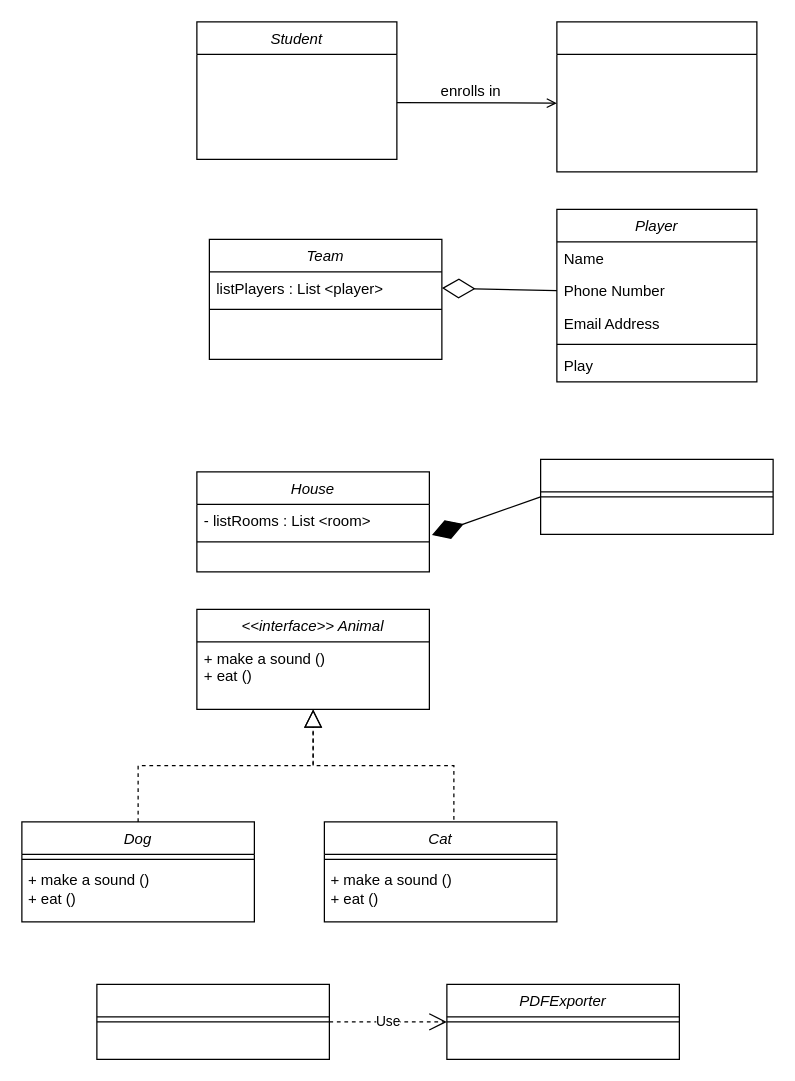
Image size: 795x1081. Some labels were removed from this diagram. Here are the shapes that lost their labels. From the top down, the centre of each, then its label:
At (x=656, y=96): "Course".
At (x=656, y=496): "room".
At (x=212, y=1021): "ReportGenerator".
